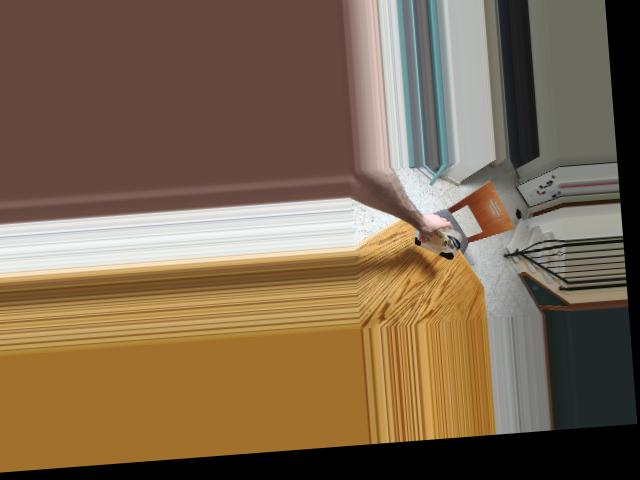cheese: (408, 212, 463, 262)
